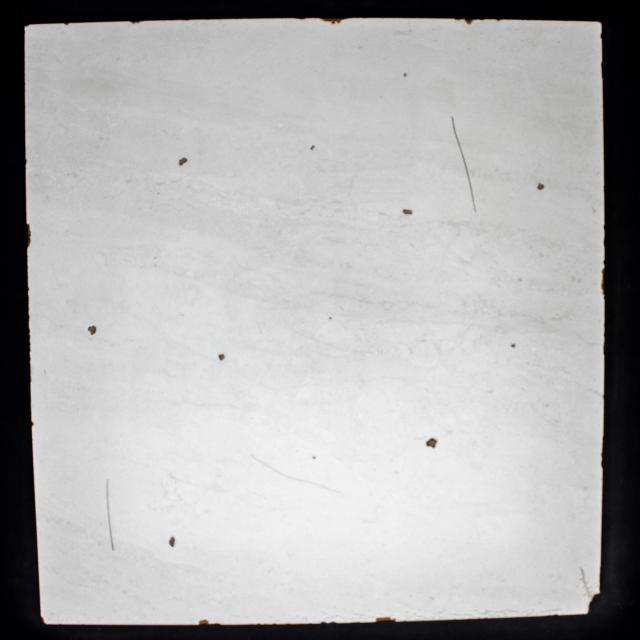edge-chipping: (317, 16, 352, 26), (587, 593, 602, 614), (600, 266, 606, 298), (374, 615, 398, 623), (26, 223, 32, 250), (462, 18, 476, 25), (198, 618, 210, 626)
hole: (425, 437, 438, 450), (168, 535, 176, 549), (87, 325, 97, 336), (178, 156, 188, 166), (536, 181, 545, 192), (402, 208, 413, 216), (218, 352, 225, 362), (309, 144, 316, 152), (510, 342, 517, 349), (402, 71, 408, 78)
line: (249, 452, 288, 476), (290, 478, 342, 494), (450, 114, 466, 164), (105, 477, 115, 552), (464, 164, 478, 213)
